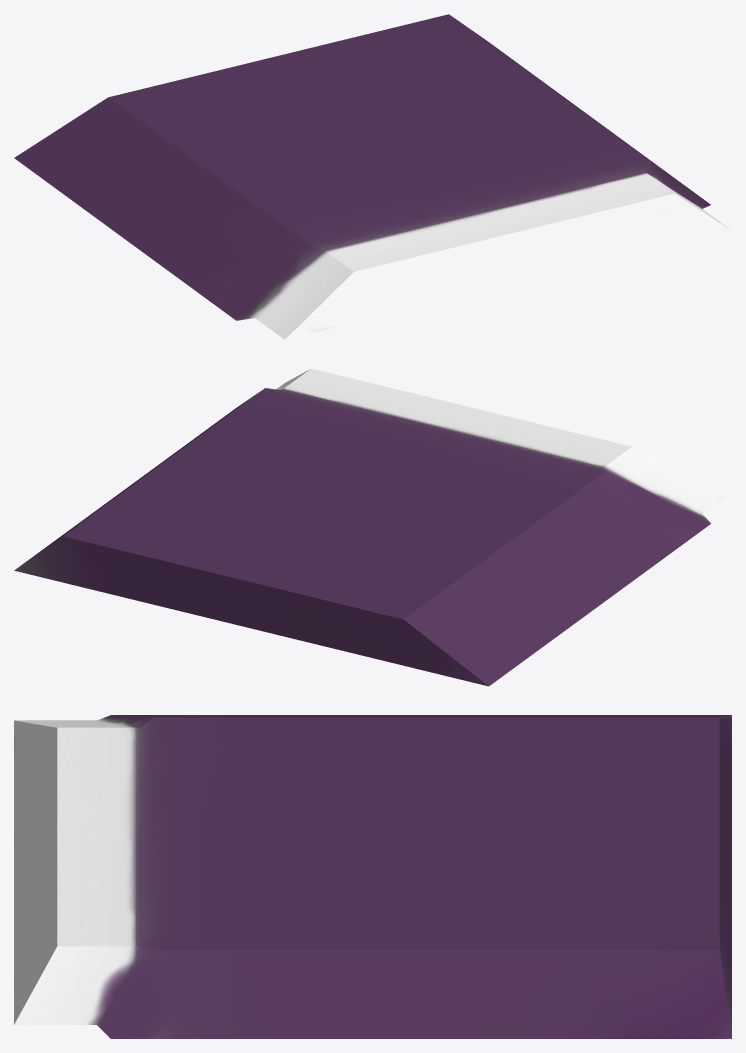
File: pillow_empty.fbx
3 renders of one model, top to bottom at view 1: azimuth 30°, elevation 25°; view 2: azimuth 150°, elevation 25°; view 3: azimuth 270°, elevation 25°, orthographic. The views are drawn at different scales.
Parts seen in each view (by area): view 1: pCube1; view 2: pCube1; view 3: pCube1.
Boxes of the visible parts, bbox=[...] form: pCube1: bbox=[14, 14, 731, 339]; pCube1: bbox=[14, 368, 731, 686]; pCube1: bbox=[14, 715, 731, 1038].
Size of the model in its own units: 3.42 by 0.2886 by 3.2.
Materials: 1 (1 with a texture image).
